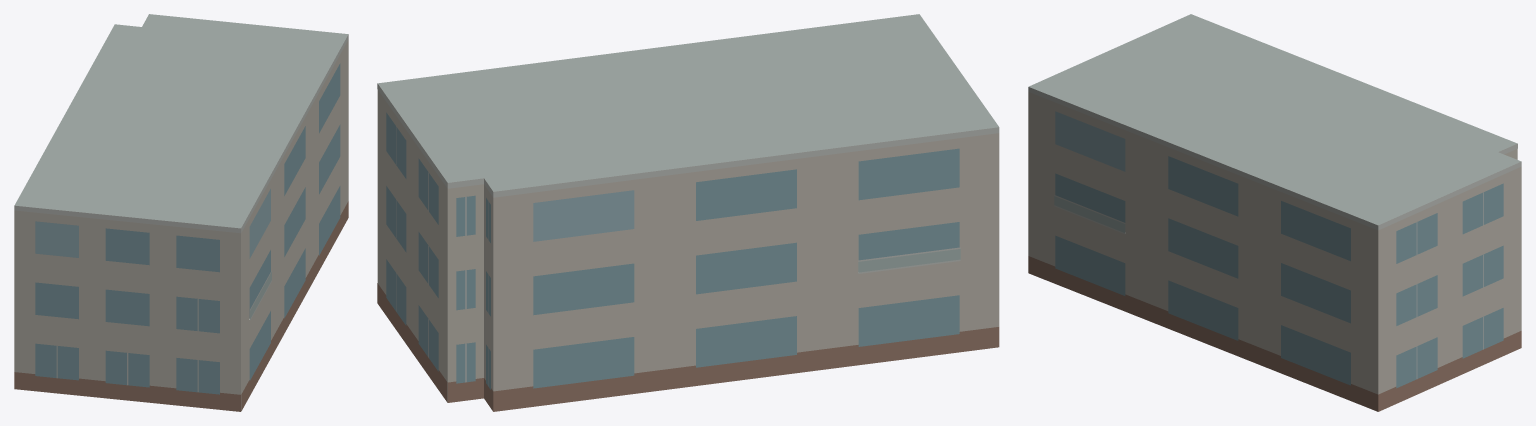
The model's file is survey-upis-32780529.glb.
3 renders of one model, left to right at view 1: azimuth 30°, elevation 25°; view 2: azimuth 150°, elevation 25°; view 3: azimuth 270°, elevation 25°, orthographic. The views are drawn at different scales.
Visible parts, largest first — view 1: survey-upis-32780529.tmp; view 2: survey-upis-32780529.tmp; view 3: survey-upis-32780529.tmp.
Part boxes in pixels (bbox=[...]): survey-upis-32780529.tmp: bbox=[14, 14, 348, 411]; survey-upis-32780529.tmp: bbox=[377, 14, 999, 411]; survey-upis-32780529.tmp: bbox=[1028, 14, 1521, 411].
Bounding box in the file's own units: 22.26 × 9.15 × 21.95.
